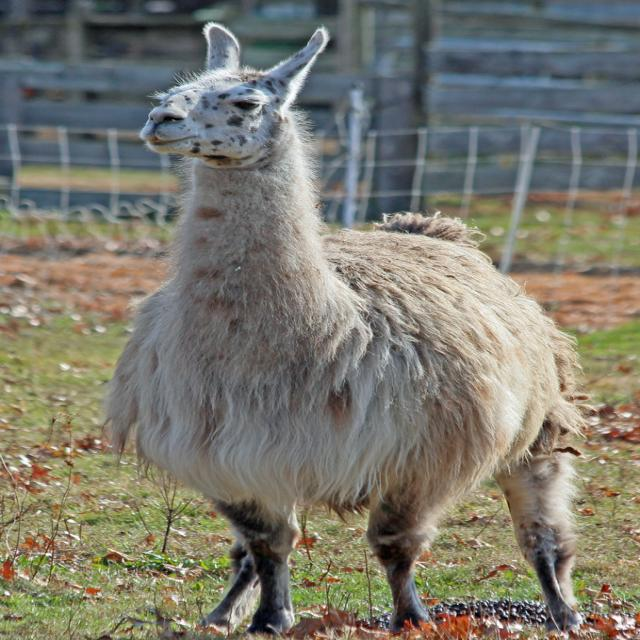alpaca: (108, 22, 596, 632)
